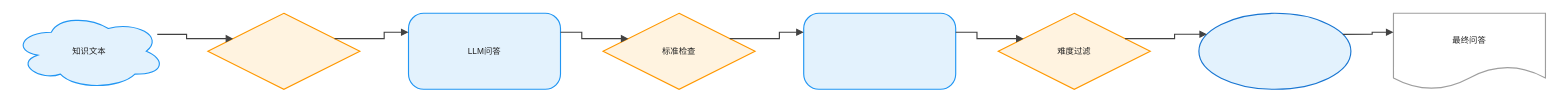
The diagram is 1560 pixels wide and 103 high, and some of its shapes have lost their labels. Each missing label, with the centre of its shape:
"RAG验证" belongs at point 879,51.
"人工复核" belongs at point 1274,51.
"质量过滤" belongs at point 283,51.
